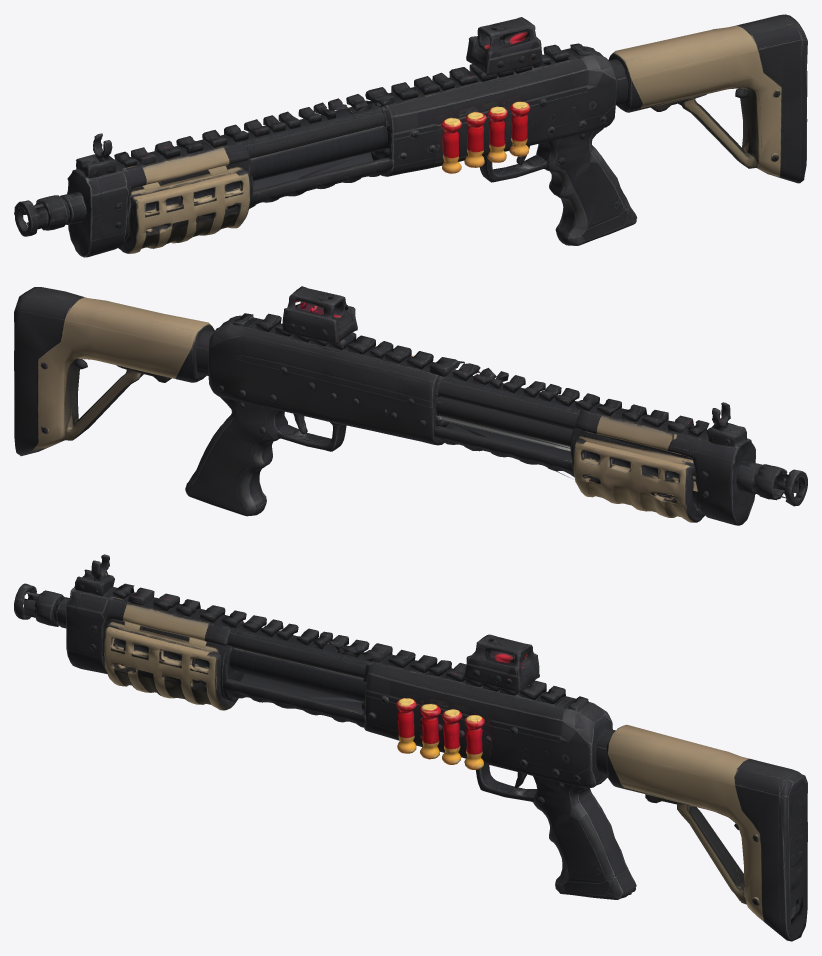
The model's file is PlayerShotgun_v44.glb.
3 views of the same model, one above another, from view 1: azimuth 30°, elevation 25°; view 2: azimuth 150°, elevation 25°; view 3: azimuth 330°, elevation 25° (orthographic).
Bounding box in the file's own units: 1 × 0.2861 × 0.0972.
Materials: 1 (1 with a texture image).
